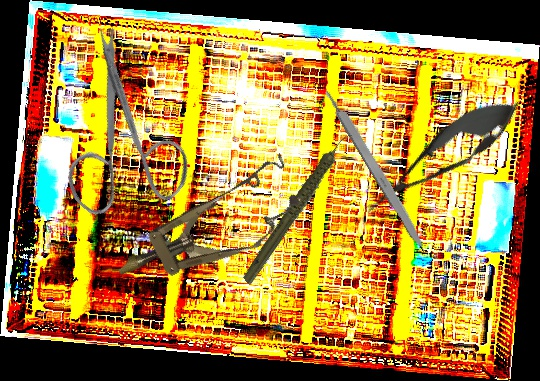Handpiece: (216, 130, 382, 287)
Iris Scissors: (2, 20, 230, 248)
Micro Scissor: (352, 83, 531, 230)
Scalpel Handle: (322, 85, 431, 254)
Speculum: (102, 151, 313, 307)
